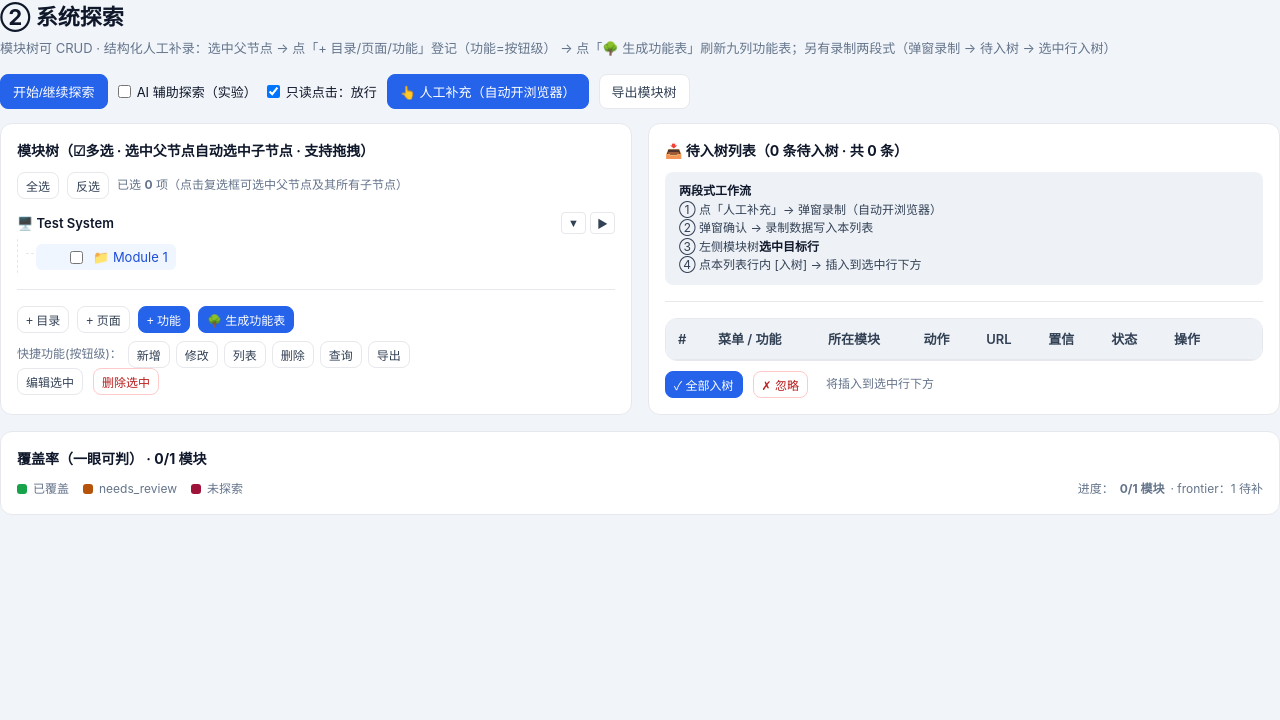
Test: Explore 系统探索 › 删除模块应弹出确认对话框
Click the button "删除选中" at (126, 382), box [93,368,159,395]
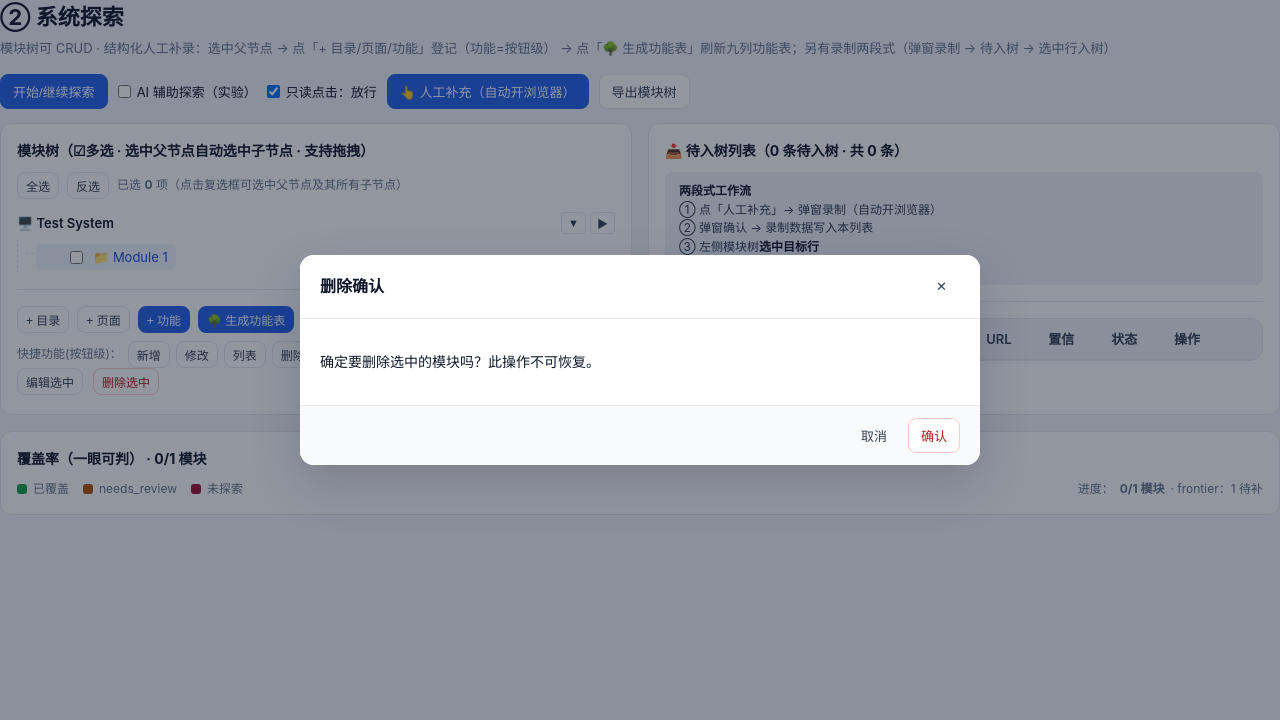
Expected: the text "确定要删除选中的模块吗？此操作不可恢复。" is shown, [320,353,600,370]
